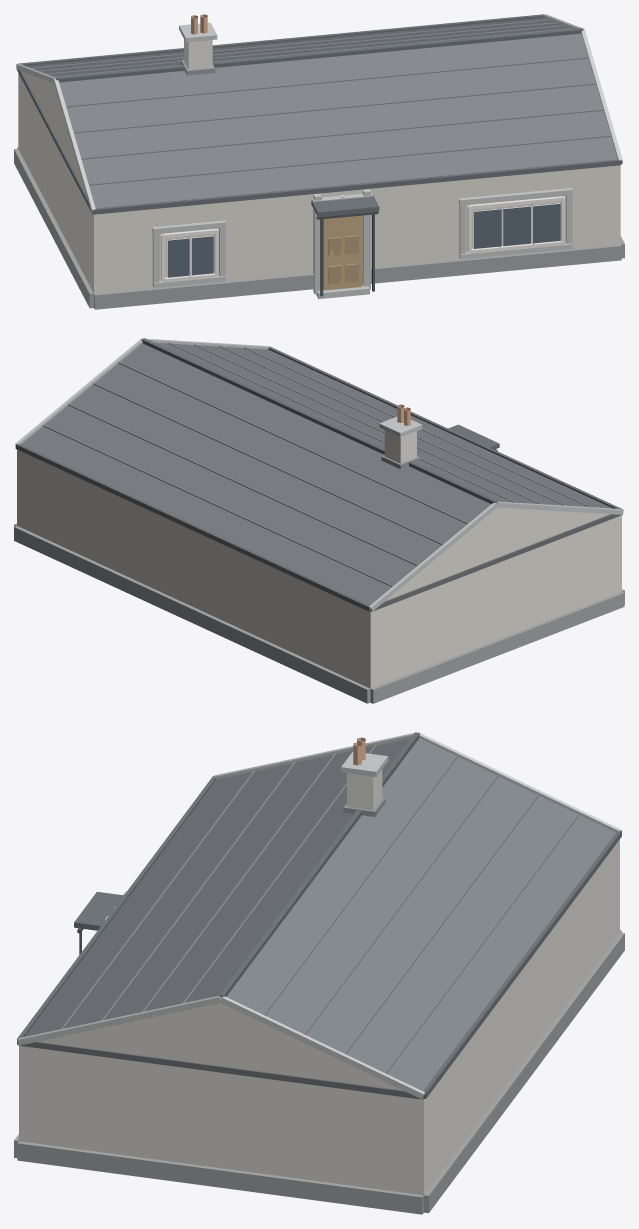
3 renders of one model, top to bottom at view 1: azimuth 30°, elevation 25°; view 2: azimuth 150°, elevation 25°; view 3: azimuth 270°, elevation 25°, orthographic. The views are drawn at different scales.
Parts seen in each view (by area): view 1: slate, harl_grey, slate_dk, plinth, stone_band, slate_lt, frame, door_wood, window_glass_001, window_glass_002, window_glass_003, door_wood_p (+4 smaller); view 2: slate, harl_grey, plinth, slate_dk, slate_lt, stone_band, chim_render; view 3: slate, harl_grey, plinth, slate_dk, stone_band, slate_lt, chim_render.
Boxes of the visible parts, box(x1,y1,x2,y2) form: slate: box(26, 17, 617, 208); harl_grey: box(18, 71, 620, 308); slate_dk: box(17, 14, 622, 216); plinth: box(14, 147, 624, 309); stone_band: box(16, 14, 622, 299); slate_lt: box(31, 19, 611, 185); frame: box(161, 195, 565, 282); door_wood: box(323, 215, 362, 290); window_glass_001: box(532, 203, 560, 243); window_glass_002: box(503, 206, 530, 246); window_glass_003: box(474, 209, 501, 248); door_wood_p: box(328, 235, 358, 284); slate: box(21, 342, 612, 605); harl_grey: box(17, 449, 621, 703); plinth: box(14, 523, 624, 703); slate_dk: box(15, 338, 623, 611); slate_lt: box(43, 342, 591, 586); stone_band: box(15, 338, 623, 611); chim_render: box(384, 430, 416, 463); slate: box(24, 738, 615, 1090); harl_grey: box(19, 839, 619, 1213); plinth: box(14, 930, 624, 1214); slate_dk: box(17, 732, 621, 1099); stone_band: box(17, 733, 621, 1099); slate_lt: box(61, 744, 579, 1073); chim_render: box(347, 769, 382, 810).
Size of the model in its own units: 15.97 by 6 by 12.83.
